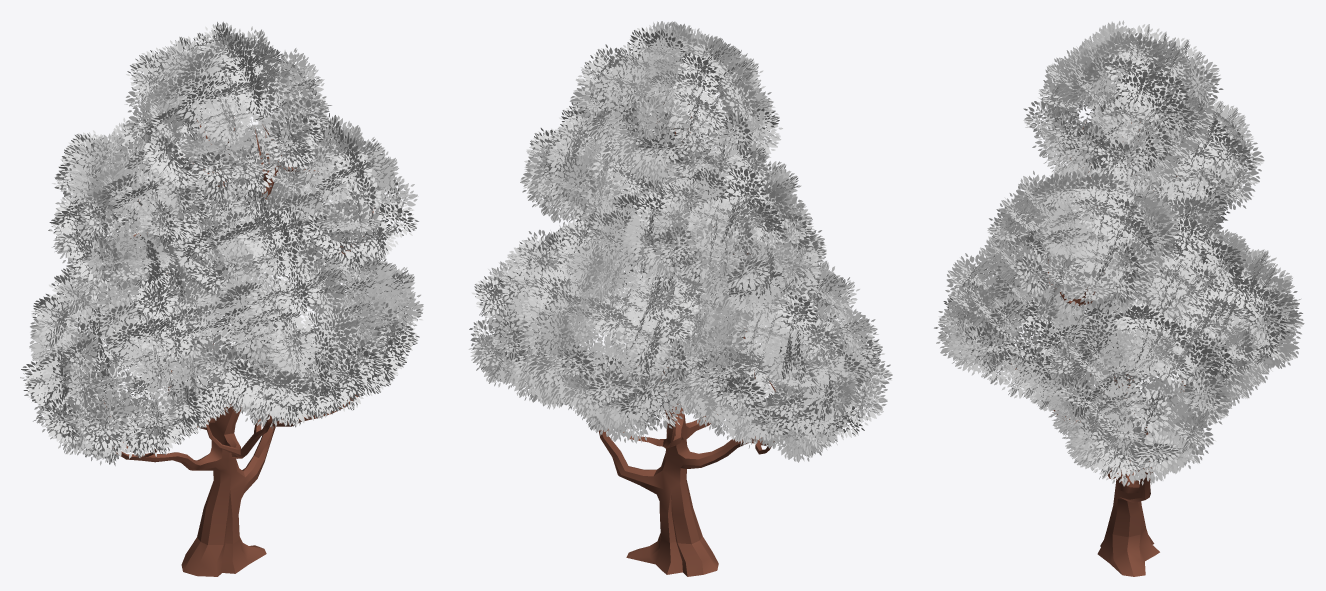
File: NOVO_1.fbx
3 views of the same model, side by side, from view 1: azimuth 30°, elevation 25°; view 2: azimuth 150°, elevation 25°; view 3: azimuth 270°, elevation 25° (orthographic).
Parts seen in each view (by area): view 1: Tree_free_03.003; view 2: Tree_free_03.003; view 3: Tree_free_03.003.
Boxes of the visible parts, box(x1,y1,x2,y2) form: Tree_free_03.003: box(20, 21, 423, 576); Tree_free_03.003: box(468, 21, 892, 576); Tree_free_03.003: box(934, 20, 1304, 576).
Size of the model in its own units: 767 by 976 by 642.
